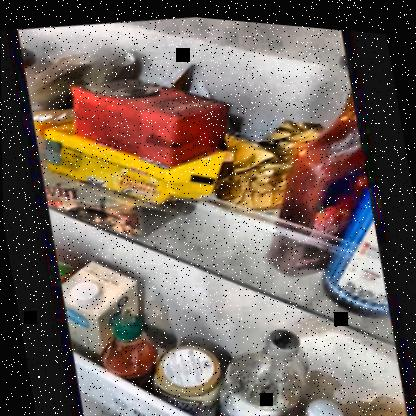butter: (34, 103, 204, 245)
milk: (60, 253, 137, 352)
